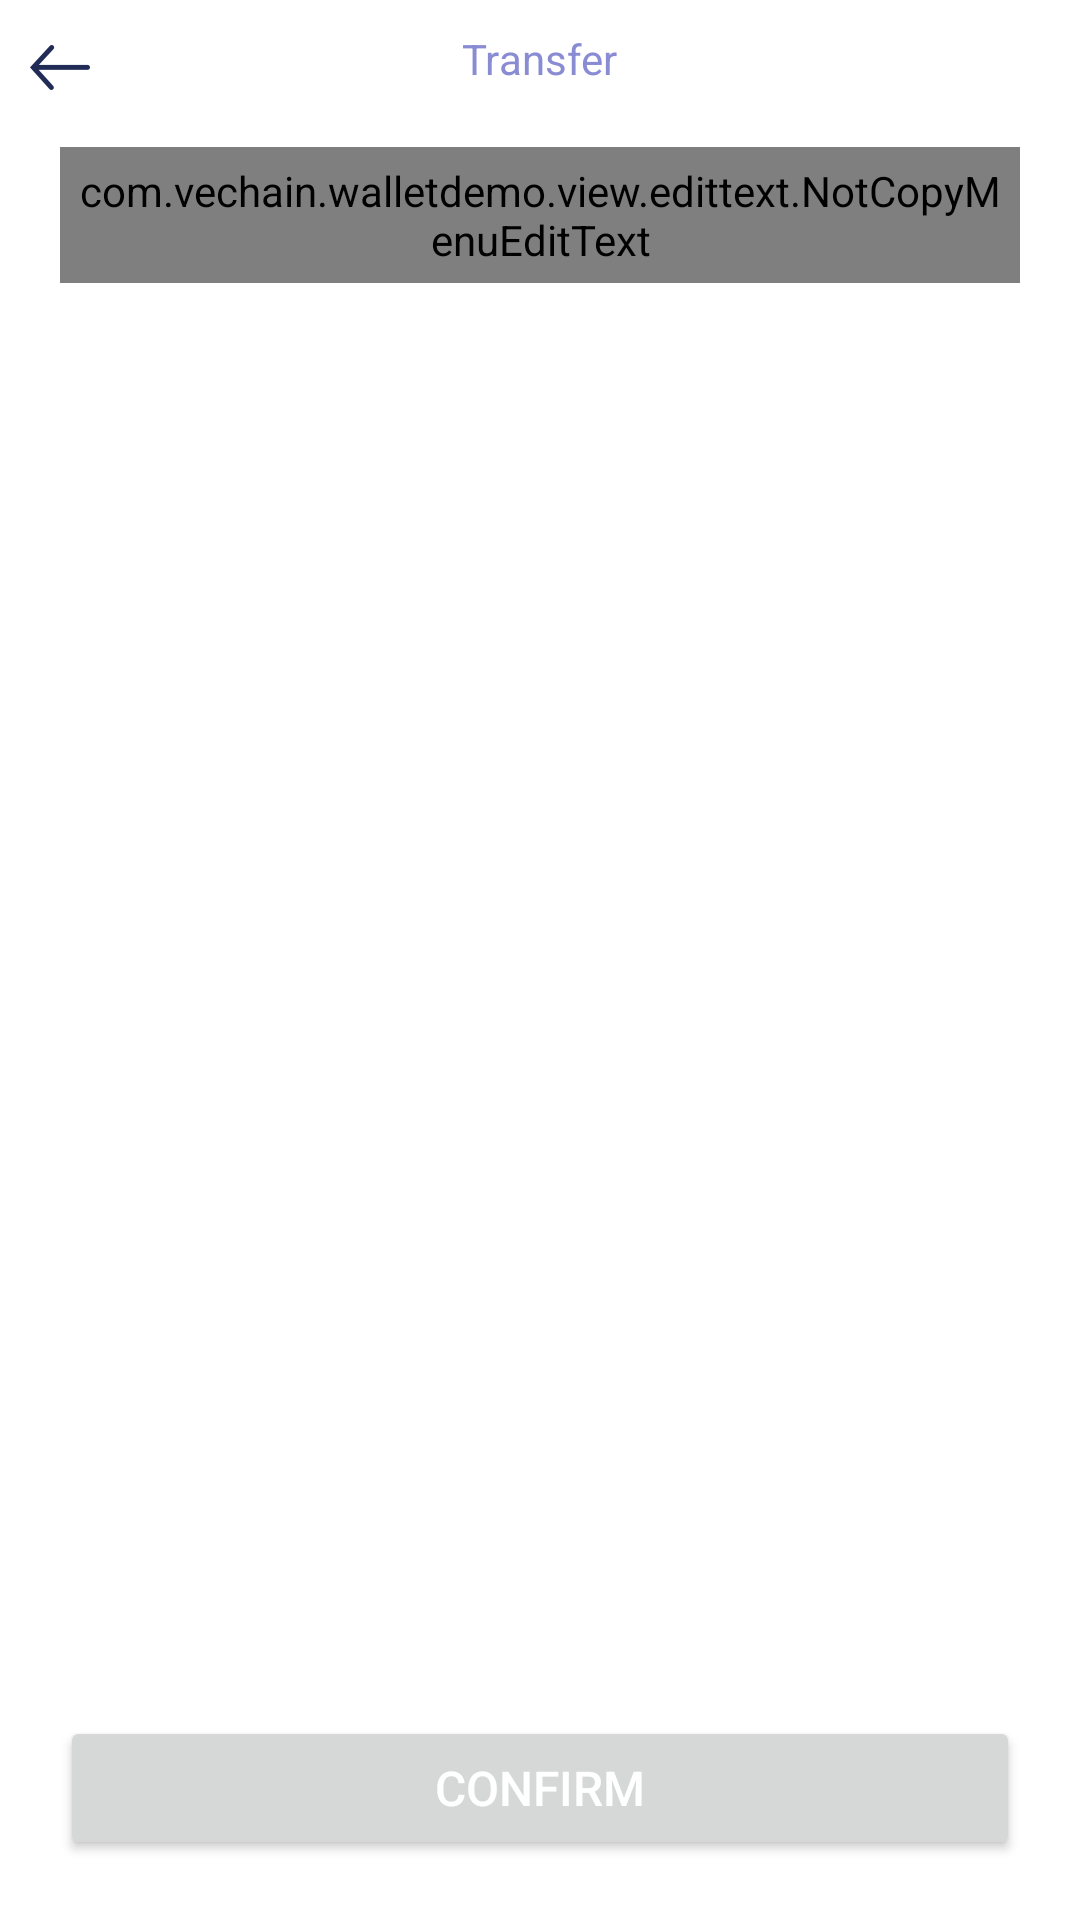

Where to tap for icons on this 1080×1920 app screen, as (x=x, y=y):
back: (x=60, y=67)
